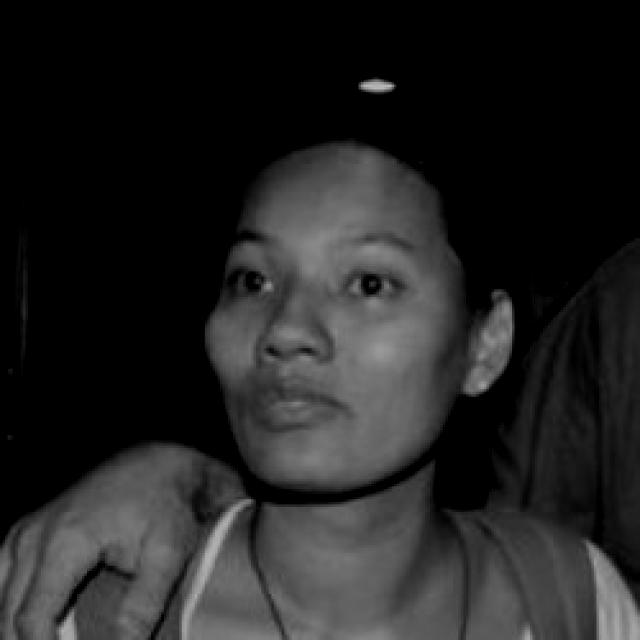real: (205, 154, 461, 504), (216, 249, 407, 306)
